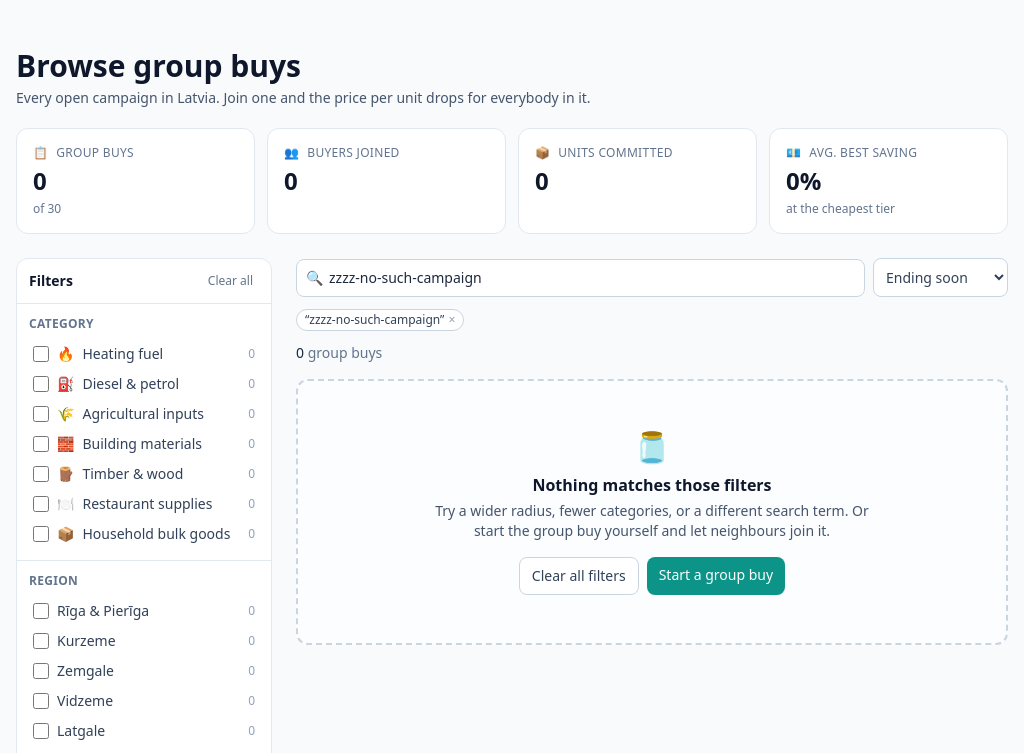
Test: CampaignsPage › offers a way out when nothing matches
Expected: the heading "Nothing matches those filters" is shown, [532,474,772,496]
Click the button "Clear all filters": (579,576) [519,557,639,595]
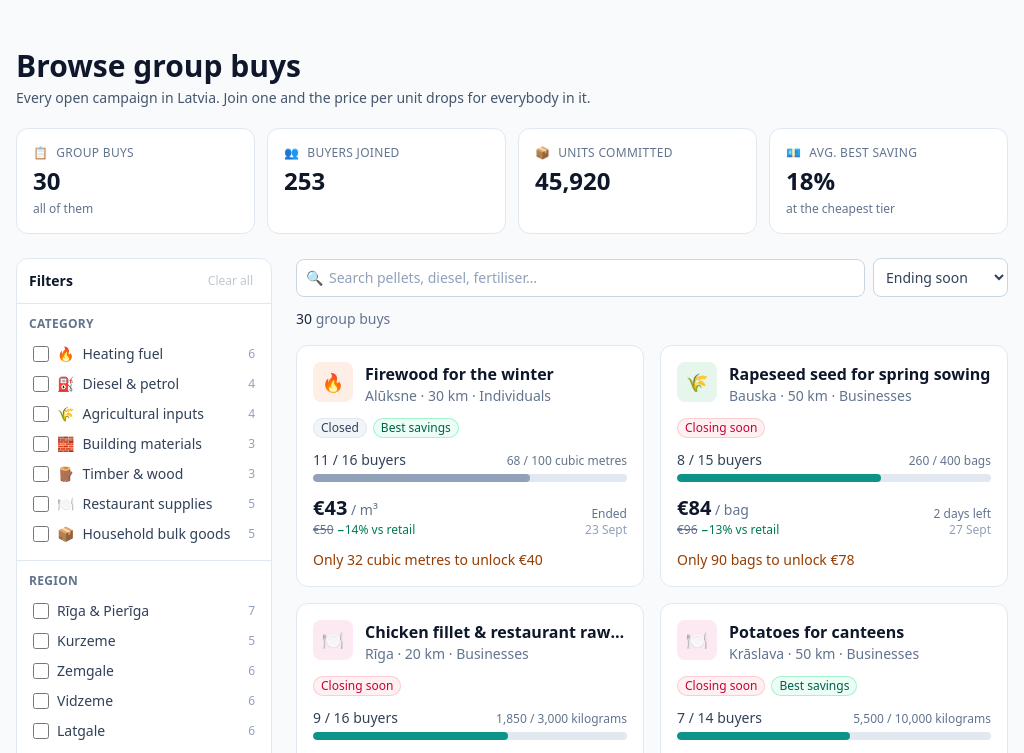
Expected: the search field named "Search group buys" is empty, [296,258,865,296]
